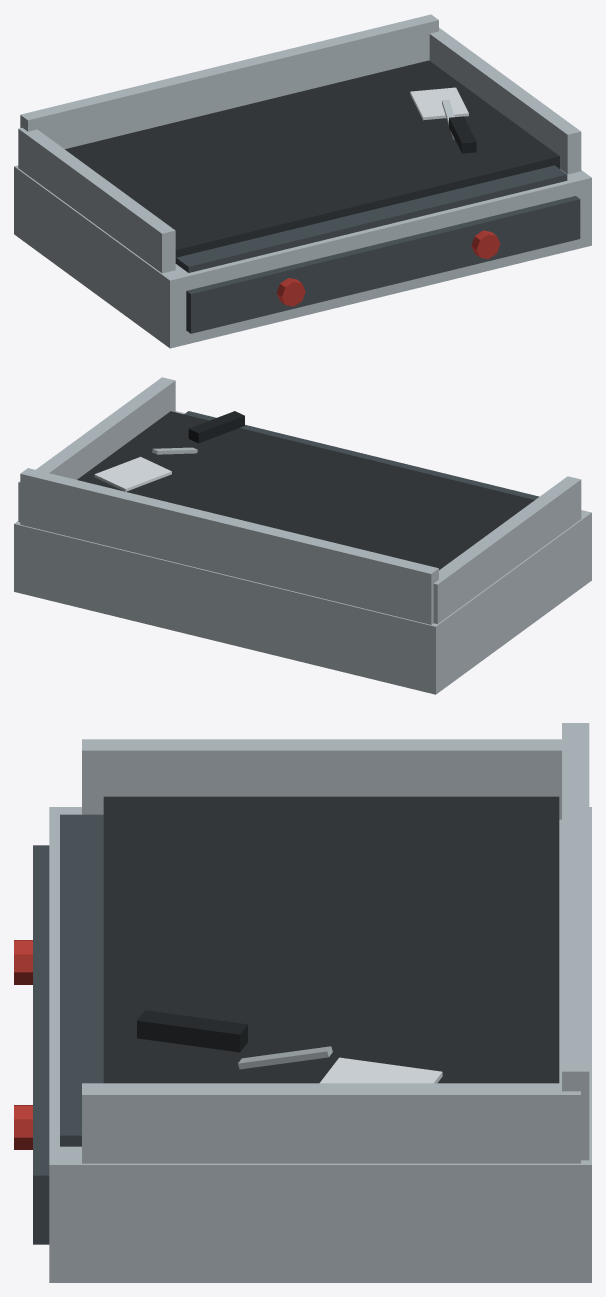
Rendered from flat_grill.glb.
The picture shows the model from 3 angles, top to bottom: view 1: azimuth 30°, elevation 25°; view 2: azimuth 150°, elevation 25°; view 3: azimuth 270°, elevation 25°; orthographic projection. The views are drawn at different scales.
Visible parts, largest first — view 1: Grill_Body, Grill_Spatula; view 2: Grill_Body, Grill_Spatula; view 3: Grill_Body, Grill_Spatula.
Part boxes in pixels (x1,y1,x2,y2): Grill_Body: (14,14,591,348); Grill_Spatula: (410,87,476,153); Grill_Body: (14,377,591,694); Grill_Spatula: (94,411,244,491); Grill_Body: (14,723,591,1282); Grill_Spatula: (137,1010,442,1083).
Bounding box in the file's own units: 0.78 × 0.21 × 0.5325.
Materials: 1 (1 with a texture image).
